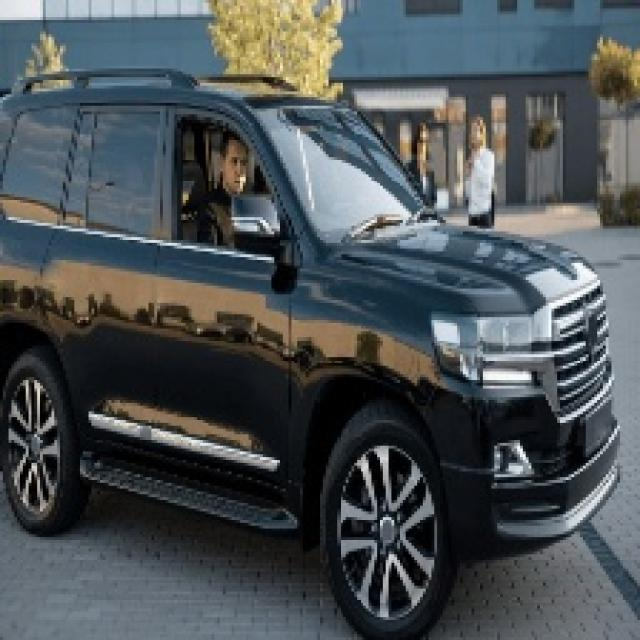car: (14, 42, 622, 549)
